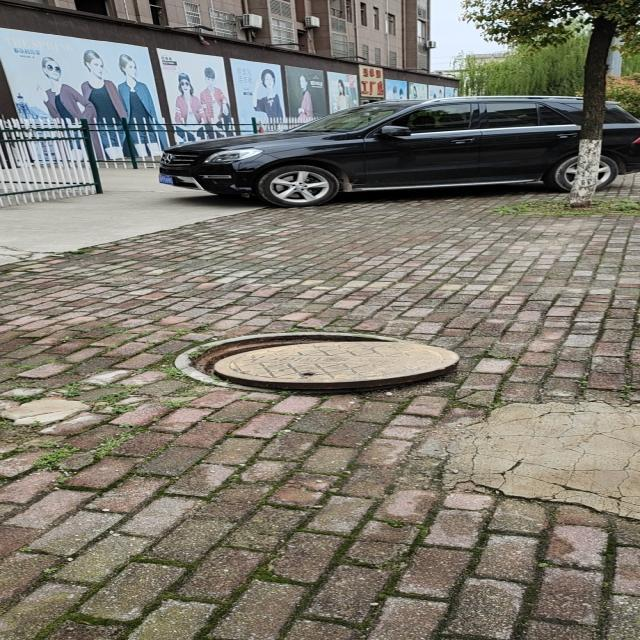Faulty: (176, 331, 461, 394)
